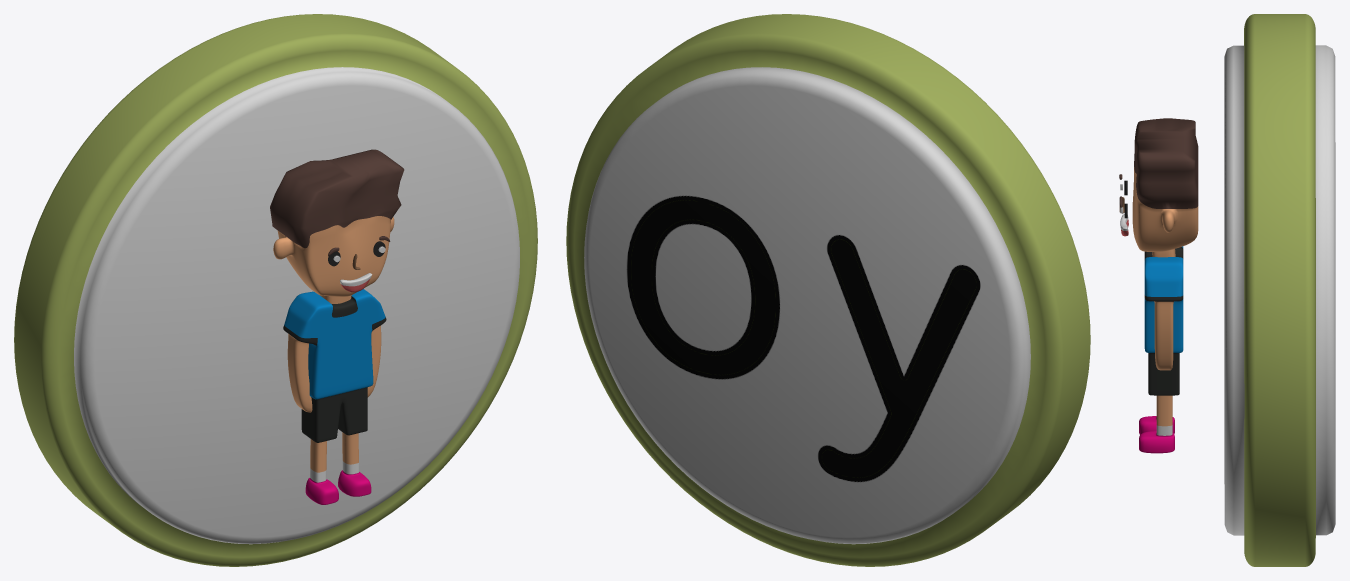
The model's file is boy.gltf.
3 views of the same model, side by side, from view 1: azimuth 30°, elevation 25°; view 2: azimuth 150°, elevation 25°; view 3: azimuth 270°, elevation 25° (orthographic). The views are drawn at different scales.
Visible parts, largest first — view 1: coin, face.003, Cube.000; view 2: coin; view 3: coin, face.003, Cube.000.
Boxes of the visible parts, bbox=[...] form: coin: bbox=[14, 14, 537, 566]; face.003: bbox=[270, 149, 404, 303]; Cube.000: bbox=[283, 289, 386, 504]; coin: bbox=[566, 14, 1090, 566]; coin: bbox=[1224, 14, 1335, 566]; face.003: bbox=[1119, 118, 1198, 257]; Cube.000: bbox=[1139, 246, 1183, 453].
Size of the model in its own units: 2.56 by 2.56 by 0.9996.
Materials: 15 (1 with a texture image).
